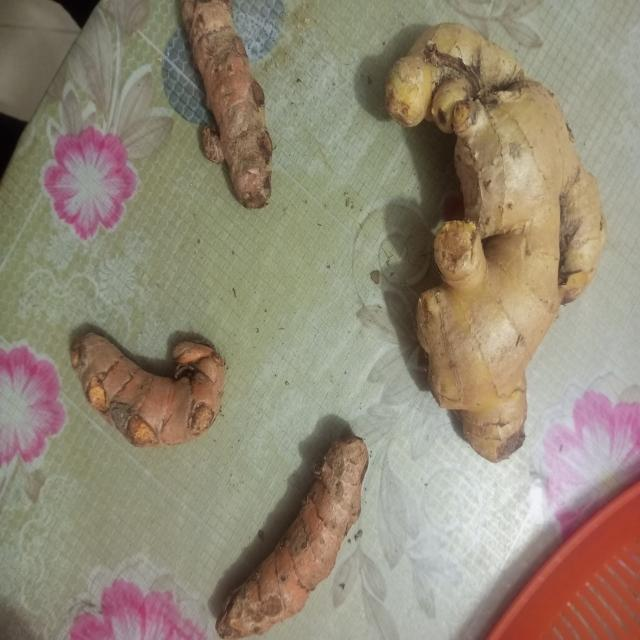ginger: (396, 39, 603, 453), (228, 446, 366, 634), (182, 0, 282, 204), (75, 327, 223, 439)
